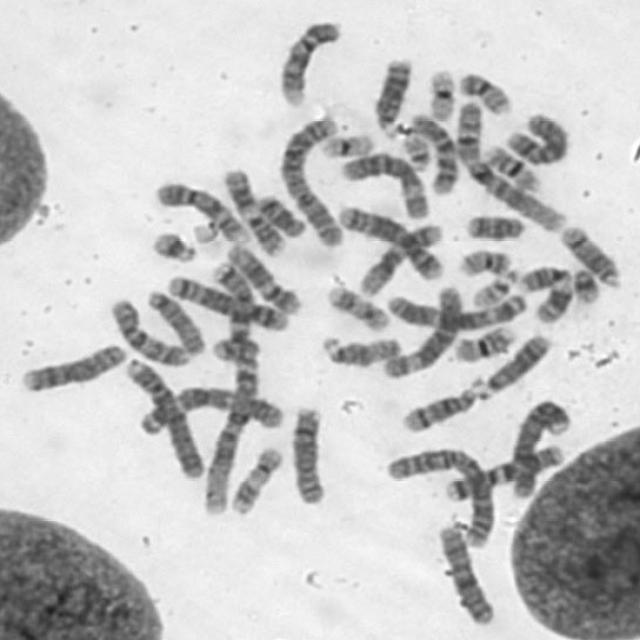A1: (449, 96, 567, 232), (194, 356, 260, 520)
A2: (381, 442, 499, 550), (274, 109, 347, 248)
A3: (133, 384, 288, 437), (382, 290, 530, 331)
B4: (119, 354, 207, 481), (505, 392, 574, 502)
B5: (333, 199, 447, 282), (161, 269, 292, 333)
C10: (105, 292, 192, 367), (404, 108, 461, 196)
C11: (218, 164, 287, 258), (514, 260, 575, 324)
C12: (355, 220, 447, 298), (221, 238, 305, 316)
C6: (379, 280, 465, 379), (333, 147, 431, 222)
C7: (441, 440, 565, 503), (208, 262, 261, 362)
C8: (14, 340, 128, 394), (287, 400, 329, 506)
C9: (150, 177, 250, 246), (275, 14, 345, 107)
D13: (469, 332, 552, 400), (368, 53, 416, 137)
D14: (556, 219, 624, 291), (398, 379, 483, 434)
D15: (142, 285, 210, 357), (316, 331, 402, 366)
E16: (479, 140, 543, 194), (448, 319, 516, 364)
E17: (226, 440, 286, 517), (321, 281, 393, 332)
E18: (253, 191, 309, 239), (460, 210, 528, 241)
F19: (422, 64, 459, 122), (316, 129, 376, 160)
F20: (454, 68, 514, 117), (454, 244, 514, 278)
G21: (147, 226, 200, 265), (568, 265, 604, 306)
G22: (467, 266, 520, 310), (396, 129, 433, 172)
X: (431, 522, 496, 628), (500, 107, 573, 168)
